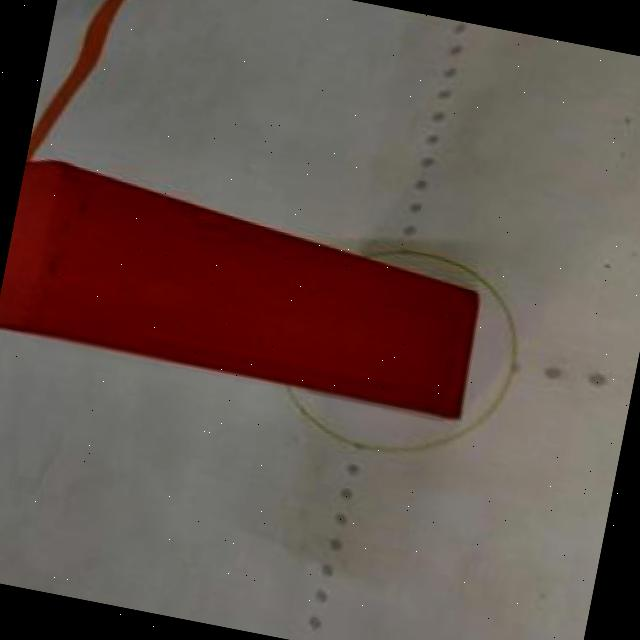redbox: (0, 153, 494, 425)
